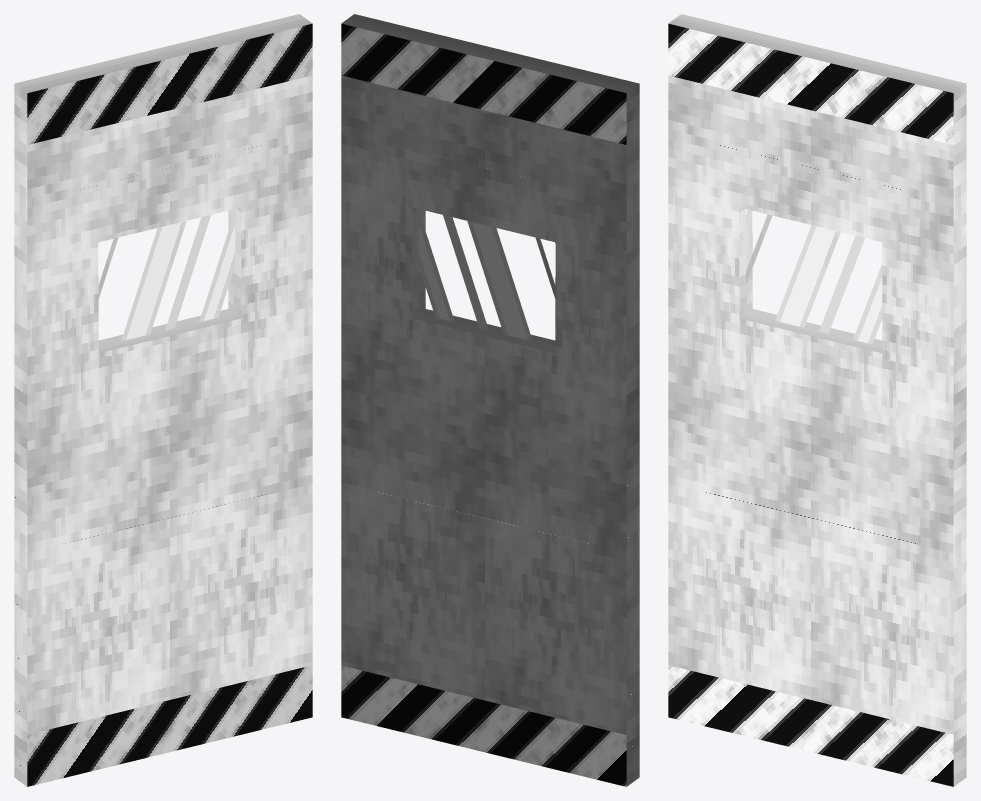
Rendered from Psev_doorZ.obj.
The picture shows the model from 3 angles, left to right: view 1: azimuth 30°, elevation 25°; view 2: azimuth 150°, elevation 25°; view 3: azimuth 330°, elevation 25°; orthographic projection.
Bounding box in the file's own units: 904 × 2100 × 72.
Materials: 4 (4 with a texture image).
